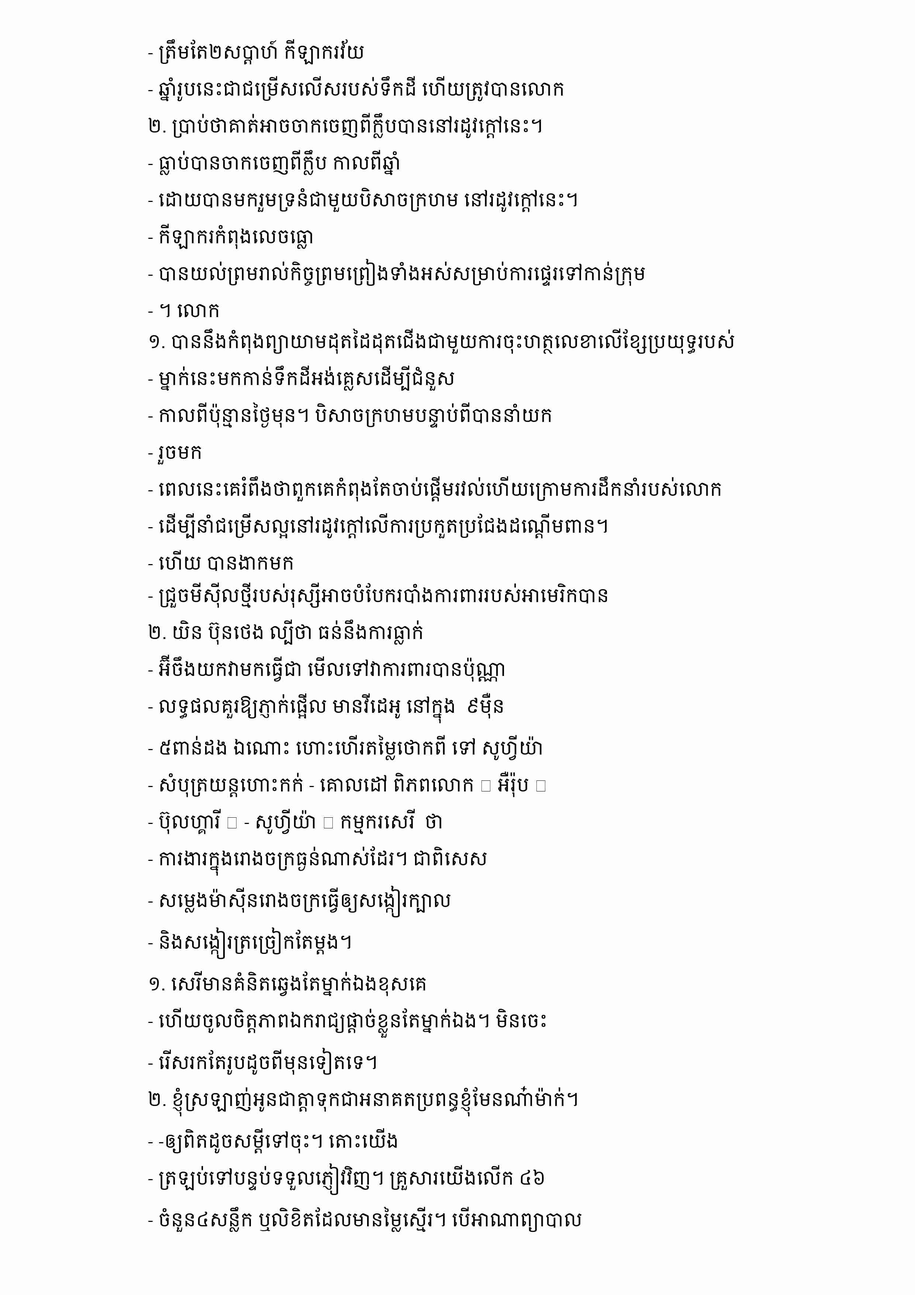text: (148, 476, 727, 502), (148, 329, 740, 354), (148, 1085, 584, 1117), (148, 259, 651, 286), (148, 1163, 550, 1195), (148, 1008, 553, 1038), (148, 513, 614, 539), (148, 583, 614, 608), (148, 693, 510, 724), (148, 1207, 587, 1232), (148, 76, 570, 102), (148, 402, 557, 428), (148, 188, 584, 212), (148, 846, 493, 876), (148, 772, 552, 797), (148, 113, 548, 138), (148, 735, 548, 760), (148, 886, 456, 918), (148, 655, 511, 682), (148, 365, 460, 391), (148, 809, 448, 834), (148, 619, 429, 645), (148, 971, 432, 996), (148, 927, 357, 959), (148, 1128, 404, 1154), (148, 150, 406, 175), (148, 1048, 383, 1075), (148, 39, 370, 65), (148, 224, 319, 249), (148, 550, 299, 571), (148, 446, 207, 465), (148, 304, 225, 317)
